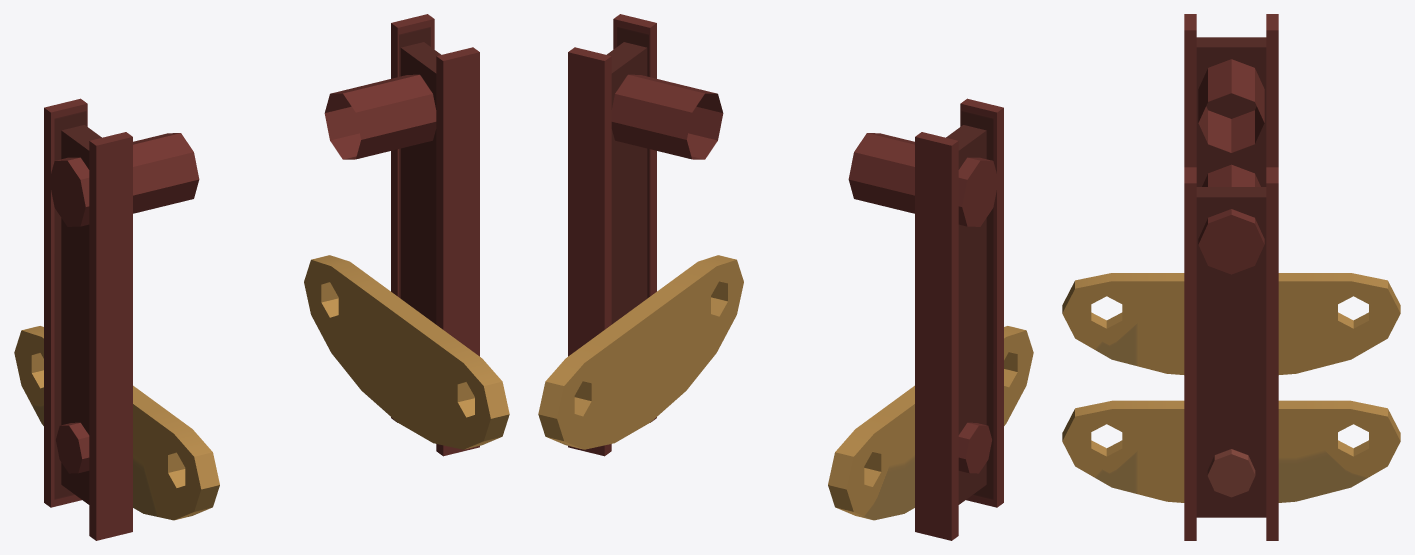
Rendered from SM_Prop_Pipline_Swing_01.fbx.
3 renders of one model, left to right at view 1: azimuth 30°, elevation 25°; view 2: azimuth 150°, elevation 25°; view 3: azimuth 270°, elevation 25°, orthographic. The views are drawn at different scales.
Parts seen in each view (by area): view 1: SM_Prop_Pipline_Swing_01; view 2: SM_Prop_Pipline_Swing_01; view 3: SM_Prop_Pipline_Swing_01.
Part boxes in pixels (<box>): SM_Prop_Pipline_Swing_01: <box>14,14,509,540</box>; SM_Prop_Pipline_Swing_01: <box>538,14,1033,540</box>; SM_Prop_Pipline_Swing_01: <box>1062,14,1400,540</box>.
Bounding box in the file's own units: 211 × 205 × 176.
